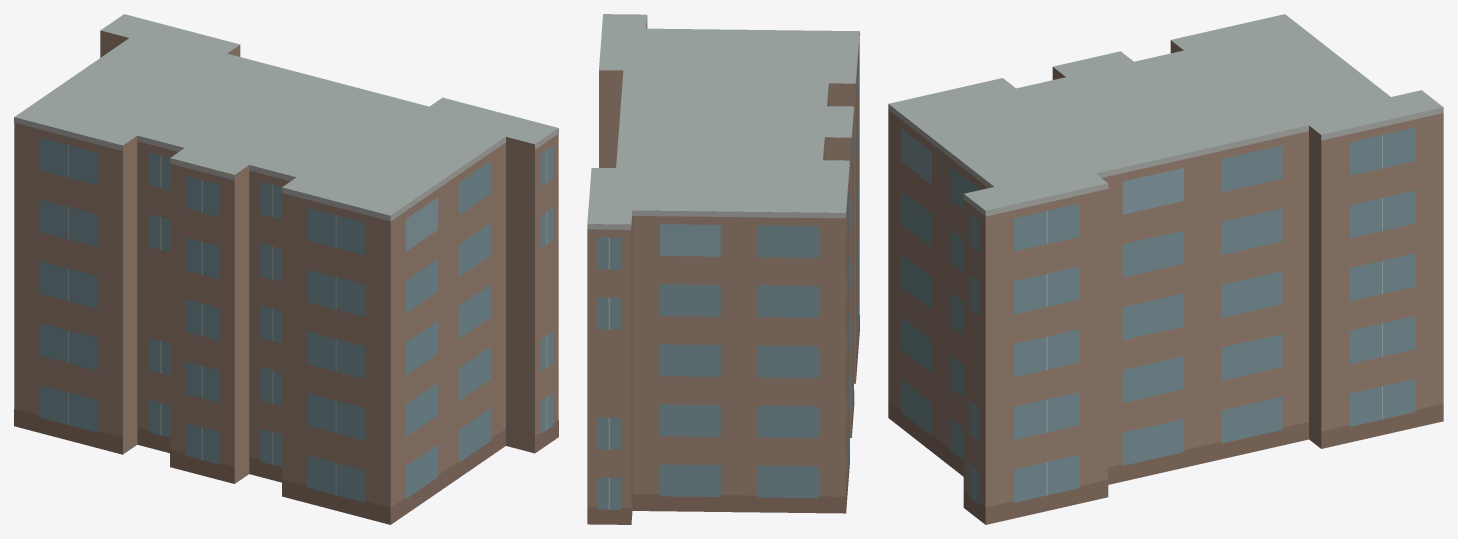
Rendered from survey-upis-32608349.glb.
3 renders of one model, left to right at view 1: azimuth 30°, elevation 25°; view 2: azimuth 150°, elevation 25°; view 3: azimuth 270°, elevation 25°, orthographic. The views are drawn at different scales.
Parts seen in each view (by area): view 1: survey-upis-32608349.tmp; view 2: survey-upis-32608349.tmp; view 3: survey-upis-32608349.tmp.
Boxes of the visible parts, x1,y1,x2,y2 form: survey-upis-32608349.tmp: (14,14,558,524); survey-upis-32608349.tmp: (587,14,859,524); survey-upis-32608349.tmp: (888,14,1443,524).
Bounding box in the file's own units: 18.16 × 13.5 × 21.65.
